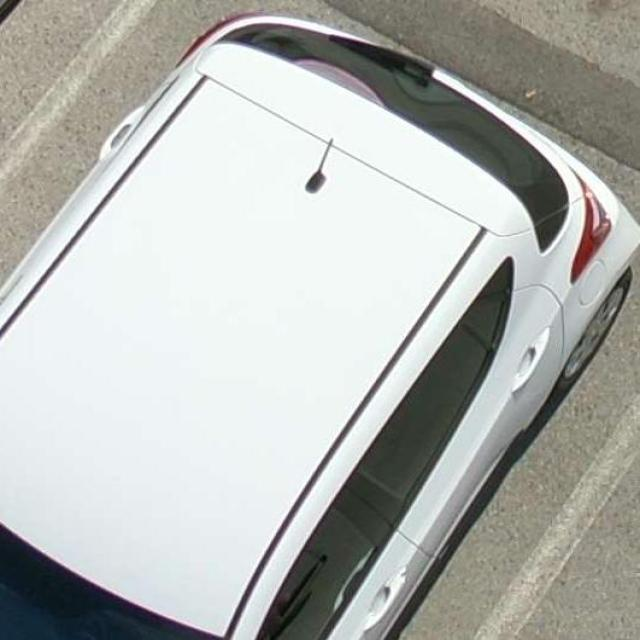Car: (0, 13, 640, 640)
